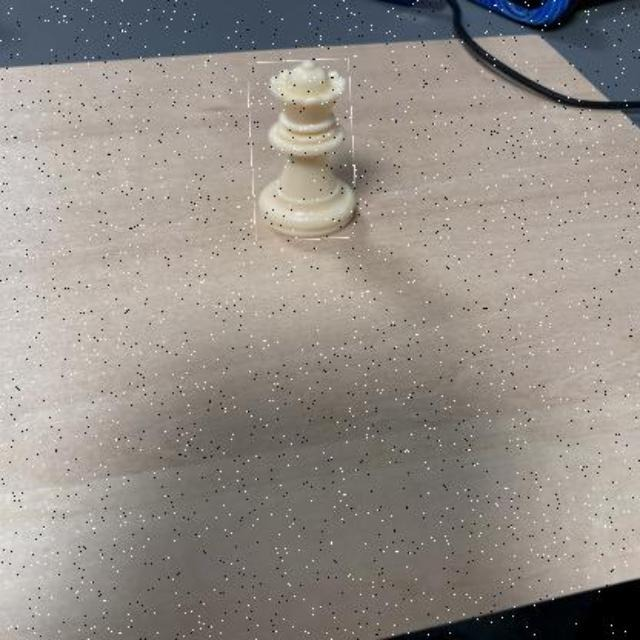white-queen: (251, 61, 355, 241)
